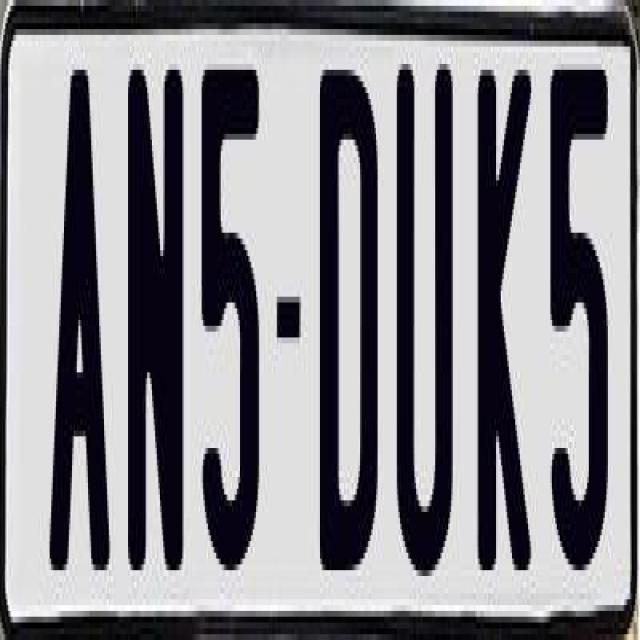5: (200, 52, 266, 570), (550, 58, 610, 582)
A: (48, 52, 110, 570)
D: (318, 52, 386, 553)
K: (478, 58, 540, 570)
N: (126, 63, 186, 600)
U: (396, 52, 459, 582)
